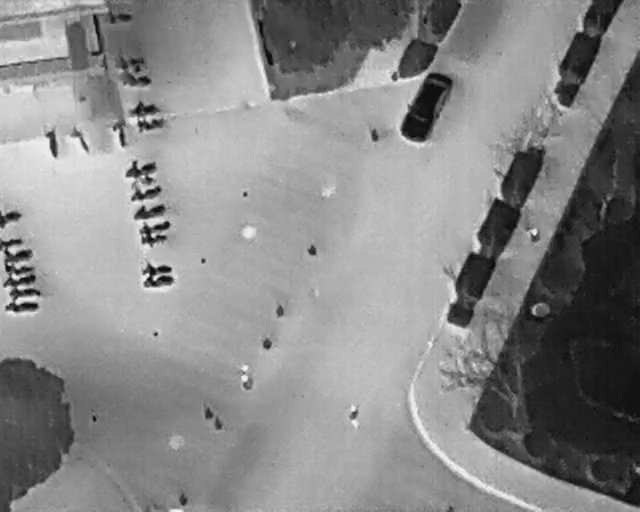Bicycle: (64, 124, 96, 159), (120, 155, 157, 181), (0, 243, 37, 269), (128, 199, 167, 222), (126, 181, 164, 204), (133, 111, 169, 135), (123, 97, 160, 120), (116, 68, 153, 90), (135, 215, 172, 237), (2, 271, 38, 291), (40, 127, 61, 161), (109, 118, 131, 150), (141, 270, 175, 290), (137, 230, 170, 249), (142, 258, 175, 277), (2, 260, 35, 278), (112, 53, 146, 68), (103, 9, 134, 25), (0, 234, 27, 250), (9, 287, 42, 300), (5, 301, 40, 313), (0, 208, 22, 227)
Car: (392, 63, 457, 150)
Person: (238, 363, 253, 391), (347, 404, 360, 429), (529, 226, 541, 245)
